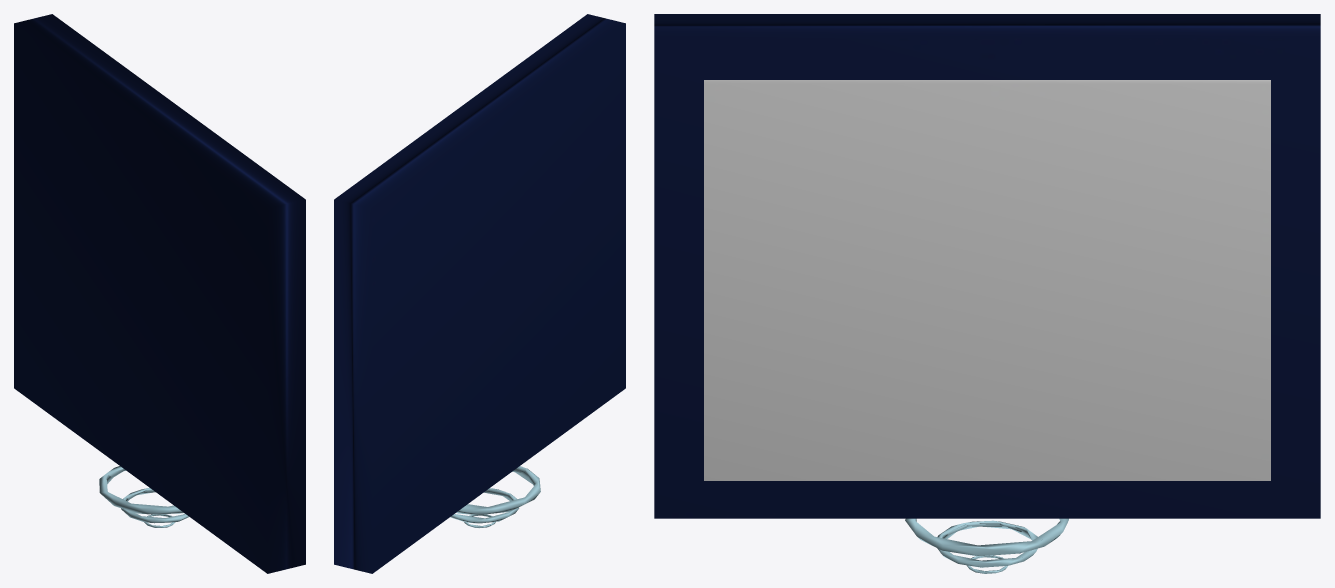
The model's file is screan.dae.
The picture shows the model from 3 angles, left to right: view 1: azimuth 30°, elevation 25°; view 2: azimuth 150°, elevation 25°; view 3: azimuth 270°, elevation 25°; orthographic projection. The views are drawn at different scales.
Visible parts, largest first — view 1: Cube; view 2: Cube; view 3: Cube.
Part boxes in pixels (bbox=[...]): Cube: bbox=[14, 14, 305, 573]; Cube: bbox=[334, 14, 625, 573]; Cube: bbox=[654, 14, 1320, 573].
Bounding box in the file's own units: 0.0619 × 0.2562 × 0.2289.
1 material, 1 textured.
